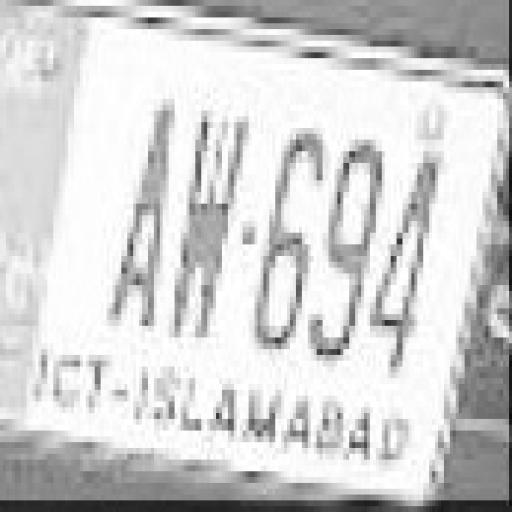4: (383, 143, 439, 378)
6: (256, 105, 305, 356)
9: (320, 143, 376, 371)
A: (105, 92, 170, 342)
W: (173, 98, 243, 352)
